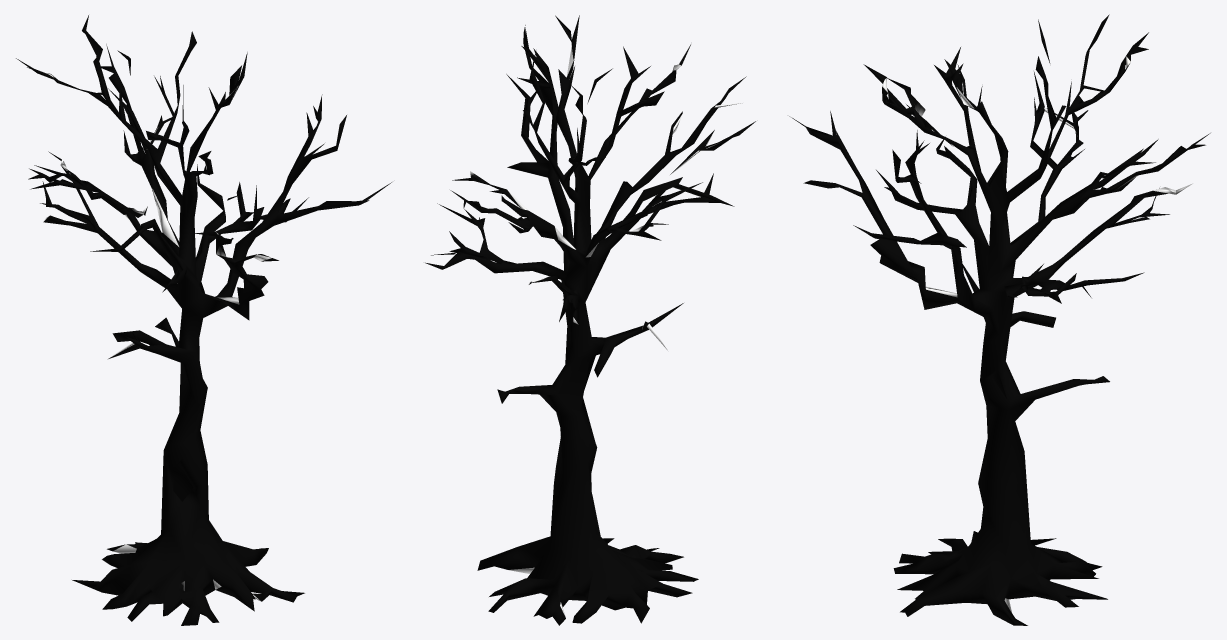
The model's file is AshTree.fbx.
3 renders of one model, left to right at view 1: azimuth 30°, elevation 25°; view 2: azimuth 150°, elevation 25°; view 3: azimuth 270°, elevation 25°, orthographic. The views are drawn at different scales.
Parts seen in each view (by area): view 1: Mesh0; view 2: Mesh0; view 3: Mesh0.
Boxes of the visible parts, left/top/right/bottom form: Mesh0: left=16, top=15, right=391, bottom=625; Mesh0: left=425, top=15, right=755, bottom=625; Mesh0: left=789, top=14, right=1210, bottom=625.
Bounding box in the file's own units: 107 × 197 × 139.
